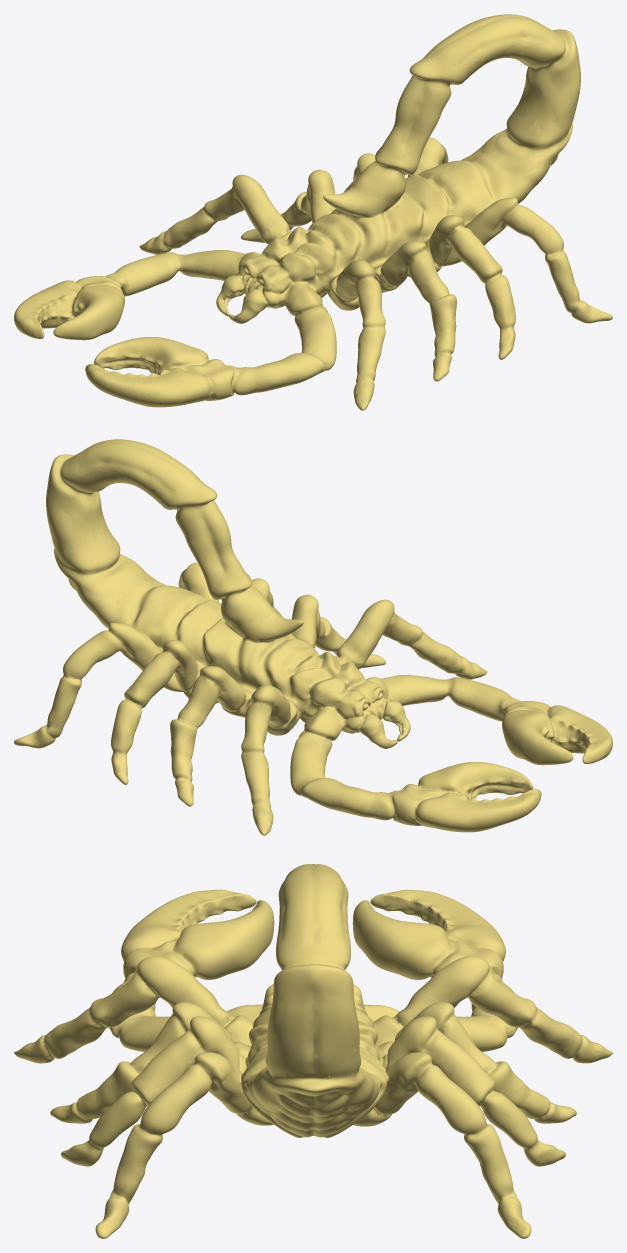
File: akrep_kolye.glb
3 renders of one model, top to bottom at view 1: azimuth 30°, elevation 25°; view 2: azimuth 150°, elevation 25°; view 3: azimuth 270°, elevation 25°, orthographic. The views are drawn at different scales.
Parts seen in each view (by area): view 1: Renderer Node; view 2: Renderer Node; view 3: Renderer Node.
Part boxes in pixels (bbox=[...]): Renderer Node: bbox=[14, 14, 612, 410]; Renderer Node: bbox=[14, 439, 612, 835]; Renderer Node: bbox=[14, 864, 612, 1238].
Bounding box in the file's own units: 47.13 × 22 × 35.33.
